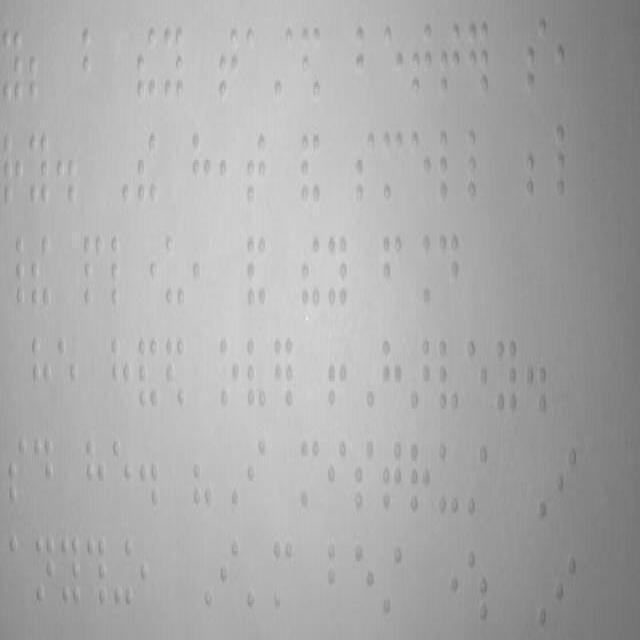braiile: (553, 113, 585, 211), (377, 326, 409, 424), (242, 323, 274, 419), (493, 326, 523, 426), (160, 13, 190, 111), (434, 330, 466, 421), (466, 121, 499, 208), (379, 13, 408, 111), (438, 115, 466, 214), (108, 225, 136, 322), (31, 428, 59, 524), (108, 428, 136, 524), (188, 121, 216, 216), (27, 124, 55, 218), (435, 224, 463, 318), (378, 123, 408, 210), (32, 528, 58, 628), (54, 332, 82, 424), (324, 532, 352, 624), (80, 21, 108, 112), (244, 126, 272, 217), (0, 120, 26, 218), (28, 328, 56, 419), (80, 430, 108, 521), (80, 226, 108, 316), (466, 326, 492, 422), (6, 428, 32, 524), (216, 20, 244, 109), (435, 15, 463, 104), (524, 13, 552, 102), (409, 124, 437, 213), (324, 227, 352, 316), (406, 436, 434, 524), (434, 436, 462, 524), (552, 436, 580, 524), (352, 431, 378, 525), (161, 228, 189, 314), (381, 230, 409, 316), (108, 328, 136, 414), (378, 432, 404, 524), (0, 24, 28, 109), (324, 431, 352, 516), (244, 21, 270, 112), (354, 13, 378, 111), (271, 531, 297, 620), (6, 526, 30, 622), (57, 530, 85, 612), (352, 538, 378, 626), (410, 17, 434, 112), (351, 123, 377, 210), (552, 551, 580, 631), (218, 332, 242, 423), (244, 434, 270, 514), (298, 433, 322, 518), (220, 540, 242, 620)
